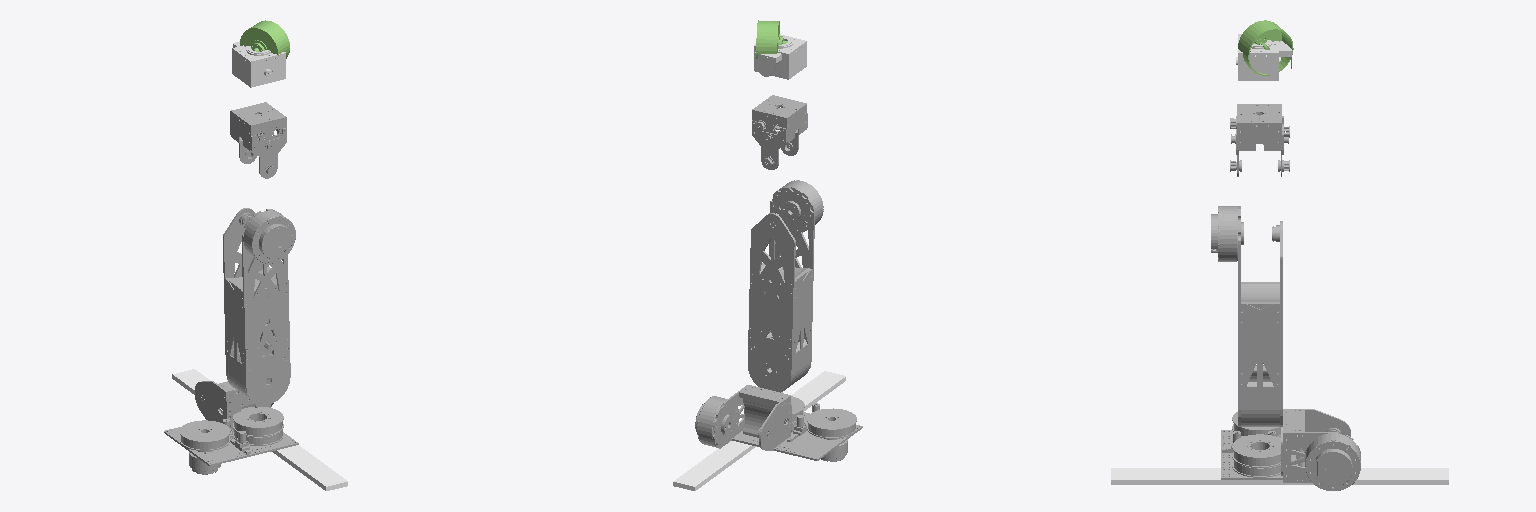
The robot description file, URDF, robot "robotic_arm":
<?xml version="1.0" encoding="utf-8"?>
<!-- This URDF was automatically created by SolidWorks to URDF Exporter! Originally created by [author] ([email redacted]) 
     Commit Version: 1.6.0-4-g7f85cfe  Build Version: 1.6.7995.38578
     For more information, please see http://wiki.ros.org/sw_urdf_exporter -->
<robot
  name="robotic_arm">
  <link
    name="base_link">
    <inertial>
      <origin
        xyz="-3.68628738645072E-18 -6.91439545231811E-17 0.005"
        rpy="0 0 0" />
      <mass
        value="0.3" />
      <inertia
        ixx="0.0090025"
        ixy="-4.02961807440446E-20"
        ixz="1.44560289664731E-22"
        iyy="6.5E-05"
        iyz="-5.50919783425842E-19"
        izz="0.0090625" />
    </inertial>
    <visual>
      <origin
        xyz="0 0 0"
        rpy="0 0 0" />
      <geometry>
        <mesh
          filename="package://robotic_arm/meshes/base_link.STL" />
      </geometry>
      <material
        name="">
        <color
          rgba="1 1 1 1" />
      </material>
    </visual>
    <collision>
      <origin
        xyz="0 0 0"
        rpy="0 0 0" />
      <geometry>
        <mesh
          filename="package://robotic_arm/meshes/base_link.STL" />
      </geometry>
    </collision>
  </link>
  <link
    name="second_base_link">
    <inertial>
      <origin
        xyz="-0.044022887337792 -0.0176622667442875 0.0600389088080566"
        rpy="0 0 0" />
      <mass
        value="13.7706626732672" />
      <inertia
        ixx="0.00135146700857453"
        ixy="-2.1220317114705E-08"
        ixz="-1.9401607970181E-06"
        iyy="0.00279077700857323"
        iyz="-3.72530136797395E-08"
        izz="0.0019757045745801" />
    </inertial>
    <visual>
      <origin
        xyz="0 0 0"
        rpy="0 0 0" />
      <geometry>
        <mesh
          filename="package://robotic_arm/meshes/second_base_link.STL" />
      </geometry>
      <material
        name="">
        <color
          rgba="0.752941176470588 0.752941176470588 0.752941176470588 1" />
      </material>
    </visual>
    <collision>
      <origin
        xyz="0 0 0"
        rpy="0 0 0" />
      <geometry>
        <mesh
          filename="package://robotic_arm/meshes/second_base_link.STL" />
      </geometry>
    </collision>
  </link>
  <joint
    name="shift_joint"
    type="prismatic">
    <origin
      xyz="-0.025 0 0.016"
      rpy="-1.5708 0 1.5708" />
    <parent
      link="base_link" />
    <child
      link="second_base_link" />
    <axis
      xyz="1 0 0" />
    <limit
      lower="-0.2"
      upper="0.2"
      effort="0"
      velocity="0" />
  </joint>
  <link
    name="yaw_link_1">
    <inertial>
      <origin
        xyz="4.6696404818955E-07 0.0328590155370009 -0.000362520537038807"
        rpy="0 0 0" />
      <mass
        value="82.2937780685442" />
      <inertia
        ixx="0.0434637013801844"
        ixy="-4.93825912479594E-07"
        ixz="1.77132288546177E-07"
        iyy="0.128350688051016"
        iyz="-8.63078124606148E-08"
        izz="0.0940864524556386" />
    </inertial>
    <visual>
      <origin
        xyz="0 0 0"
        rpy="0 0 0" />
      <geometry>
        <mesh
          filename="package://robotic_arm/meshes/yaw_link_1.STL" />
      </geometry>
      <material
        name="">
        <color
          rgba="0.752941176470588 0.752941176470588 0.752941176470588 1" />
      </material>
    </visual>
    <collision>
      <origin
        xyz="0 0 0"
        rpy="0 0 0" />
      <geometry>
        <mesh
          filename="package://robotic_arm/meshes/yaw_link_1.STL" />
      </geometry>
    </collision>
  </link>
  <joint
    name="yaw_joint_1"
    type="revolute">
    <origin
      xyz="-0.035237 -0.037 0"
      rpy="0 -1.5708 -3.1416" />
    <parent
      link="second_base_link" />
    <child
      link="yaw_link_1" />
    <axis
      xyz="0 1 0" />
    <limit
      lower="-0.785"
      upper="0.785"
      effort="0"
      velocity="0" />
  </joint>
  <link
    name="pitch_link_1">
    <inertial>
      <origin
        xyz="6.76805756233204E-05 -0.00204269919053574 0.0795926868026391"
        rpy="0 0 0" />
      <mass
        value="295.934350579955" />
      <inertia
        ixx="0.521077297298085"
        ixy="3.11296490831532E-07"
        ixz="-1.13263447296068E-06"
        iyy="0.288326509824729"
        iyz="-0.00452538527112823"
        izz="0.468276403116782" />
    </inertial>
    <visual>
      <origin
        xyz="0 0 0"
        rpy="0 0 0" />
      <geometry>
        <mesh
          filename="package://robotic_arm/meshes/pitch_link_1.STL" />
      </geometry>
      <material
        name="">
        <color
          rgba="0.752941176470588 0.752941176470588 0.752941176470588 1" />
      </material>
    </visual>
    <collision>
      <origin
        xyz="0 0 0"
        rpy="0 0 0" />
      <geometry>
        <mesh
          filename="package://robotic_arm/meshes/pitch_link_1.STL" />
      </geometry>
    </collision>
  </link>
  <joint
    name="pitch_joint_1"
    type="revolute">
    <origin
      xyz="0 0.093 0"
      rpy="3.1416 -1.5708 1.5456" />
    <parent
      link="yaw_link_1" />
    <child
      link="pitch_link_1" />
    <axis
      xyz="1 0 0" />
    <limit
      lower="-1.395"
      upper="1.395"
      effort="0"
      velocity="0" />
  </joint>
  <link
    name="pitch_link_2">
    <inertial>
      <origin
        xyz="-7.86363827882941E-06 -0.0118492706816219 0.0628431163153897"
        rpy="0 0 0" />
      <mass
        value="17.9447761996099" />
      <inertia
        ixx="0.00409983538513512"
        ixy="-2.78422234495853E-08"
        ixz="2.11237619566301E-08"
        iyy="0.00308460062102436"
        iyz="2.03568842417699E-07"
        izz="0.00392292897806876" />
    </inertial>
    <visual>
      <origin
        xyz="0 0 0"
        rpy="0 0 0" />
      <geometry>
        <mesh
          filename="package://robotic_arm/meshes/pitch_link_2.STL" />
      </geometry>
      <material
        name="">
        <color
          rgba="0.752941176470588 0.752941176470588 0.752941176470588 1" />
      </material>
    </visual>
    <collision>
      <origin
        xyz="0 0 0"
        rpy="0 0 0" />
      <geometry>
        <mesh
          filename="package://robotic_arm/meshes/pitch_link_2.STL" />
      </geometry>
    </collision>
  </link>
  <joint
    name="pitch_joint_2"
    type="revolute">
    <origin
      xyz="-0.0005 -0.0070647 0.27991"
      rpy="-1.5456 0 0" />
    <parent
      link="pitch_link_1" />
    <child
      link="pitch_link_2" />
    <axis
      xyz="-1 0 0" />
    <limit
      lower="-2.355"
      upper="2.355"
      effort="0"
      velocity="0" />
  </joint>
  <link
    name="roll_link_1">
    <inertial>
      <origin
        xyz="0.000459875490631909 -0.0438657402293754 3.37810933538248E-05"
        rpy="0 0 0" />
      <mass
        value="76.7289981060704" />
      <inertia
        ixx="0.0312961335815327"
        ixy="-8.61916025443439E-11"
        ixz="4.38036375110989E-06"
        iyy="0.0379769952753597"
        iyz="-2.35626179558078E-05"
        izz="0.0387928626574603" />
    </inertial>
    <visual>
      <origin
        xyz="0 0 0"
        rpy="0 0 0" />
      <geometry>
        <mesh
          filename="package://robotic_arm/meshes/roll_link_1.STL" />
      </geometry>
      <material
        name="">
        <color
          rgba="0.752941176470588 0.752941176470588 0.752941176470588 1" />
      </material>
    </visual>
    <collision>
      <origin
        xyz="0 0 0"
        rpy="0 0 0" />
      <geometry>
        <mesh
          filename="package://robotic_arm/meshes/roll_link_1.STL" />
      </geometry>
    </collision>
  </link>
  <joint
    name="roll_joint_1"
    type="revolute">
    <origin
      xyz="0 -0.28 0"
      rpy="0 0 0" />
    <parent
      link="pitch_link_2" />
    <child
      link="roll_link_1" />
    <axis
      xyz="0 1 0" />
    <limit
      lower="-3.14"
      upper="3.14"
      effort="0"
      velocity="0" />
  </joint>
  <link
    name="pitch_link_3">
    <inertial>
      <origin
        xyz="0.0207723253549985 -0.0063944856945195 -1.79399889484524E-06"
        rpy="0 0 0" />
      <mass
        value="71.4697928533591" />
      <inertia
        ixx="0.0255220344389946"
        ixy="0.000765184353880393"
        ixz="-2.914276520917E-06"
        iyy="0.0293476093259731"
        iyz="2.46482766481145E-06"
        izz="0.0330881905441518" />
    </inertial>
    <visual>
      <origin
        xyz="0 0 0"
        rpy="0 0 0" />
      <geometry>
        <mesh
          filename="package://robotic_arm/meshes/pitch_link_3.STL" />
      </geometry>
      <material
        name="">
        <color
          rgba="0.929411764705882 0.929411764705882 0.929411764705882 1" />
      </material>
    </visual>
    <collision>
      <origin
        xyz="0 0 0"
        rpy="0 0 0" />
      <geometry>
        <mesh
          filename="package://robotic_arm/meshes/pitch_link_3.STL" />
      </geometry>
    </collision>
  </link>
  <joint
    name="pitch_joint_3"
    type="revolute">
    <origin
      xyz="0.0363 -0.103 0"
      rpy="-3.1366 0 3.1416" />
    <parent
      link="roll_link_1" />
    <child
      link="pitch_link_3" />
    <axis
      xyz="1 0 0" />
    <limit
      lower="-1.57"
      upper="1.57"
      effort="0"
      velocity="0" />
  </joint>
  <link
    name="roll_link_2">
    <inertial>
      <origin
        xyz="3.30422302782796E-08 -0.0242589518113975 5.7230821599169E-08"
        rpy="0 0 0" />
      <mass
        value="41.6646751096041" />
      <inertia
        ixx="0.0324237377311637"
        ixy="-8.82828137240354E-18"
        ixz="-3.46944695195361E-18"
        iyy="0.037832723323421"
        iyz="-8.46926854587924E-18"
        izz="0.0324237377311638" />
    </inertial>
    <visual>
      <origin
        xyz="0 0 0"
        rpy="0 0 0" />
      <geometry>
        <mesh
          filename="package://robotic_arm/meshes/roll_link_2.STL" />
      </geometry>
      <material
        name="">
        <color
          rgba="0.647058823529412 0.854901960784314 0.533333333333333 1" />
      </material>
    </visual>
    <collision>
      <origin
        xyz="0 0 0"
        rpy="0 0 0" />
      <geometry>
        <mesh
          filename="package://robotic_arm/meshes/roll_link_2.STL" />
      </geometry>
    </collision>
  </link>
  <joint
    name="roll_joint_2"
    type="revolute">
    <origin
      xyz="0.036315 -0.0345 0.00017249"
      rpy="-3.1304 -1.1081 3.1316" />
    <parent
      link="pitch_link_3" />
    <child
      link="roll_link_2" />
    <axis
      xyz="0 1 0" />
    <limit
      lower="-3.14"
      upper="3.14"
      effort="0"
      velocity="0" />
  </joint>
</robot>

--- What the picture shows (computed from the rendered views, not written in the file) ---
3 views of the same robot in one strip: view 1: azimuth 30°, elevation 25°; view 2: azimuth 150°, elevation 25°; view 3: azimuth 270°, elevation 25° (orthographic).
Model robotic_arm with 8 links and 7 joints (6 revolute, 1 prismatic), rooted at base_link, posed every joint at zero.
Links seen in each view (by area): view 1: pitch_link_1, second_base_link, roll_link_1, base_link, pitch_link_3, yaw_link_1, roll_link_2; view 2: pitch_link_1, yaw_link_1, second_base_link, roll_link_1, base_link, pitch_link_3, roll_link_2; view 3: pitch_link_1, yaw_link_1, base_link, second_base_link, roll_link_1, pitch_link_3, roll_link_2.
Link boxes in pixels (x1,y1,x2,y2): pitch_link_1: [223, 208, 295, 404]; second_base_link: [164, 407, 298, 474]; roll_link_1: [230, 102, 286, 178]; base_link: [172, 369, 347, 490]; pitch_link_3: [232, 41, 285, 87]; yaw_link_1: [195, 381, 273, 431]; roll_link_2: [240, 20, 289, 58]; pitch_link_1: [748, 180, 823, 392]; yaw_link_1: [695, 385, 791, 450]; second_base_link: [732, 396, 862, 461]; roll_link_1: [752, 95, 807, 169]; base_link: [673, 371, 845, 490]; pitch_link_3: [754, 34, 806, 79]; roll_link_2: [756, 20, 787, 63]; pitch_link_1: [1211, 206, 1282, 426]; yaw_link_1: [1281, 409, 1360, 490]; base_link: [1111, 468, 1448, 484]; second_base_link: [1221, 412, 1305, 479]; roll_link_1: [1230, 104, 1289, 176]; pitch_link_3: [1236, 34, 1291, 80]; roll_link_2: [1238, 20, 1293, 75].
Size in the robot's own frame: 0.2677 by 0.6 by 0.9189 metres.
7 mesh visuals loaded from 8 distinct referenced files (7 binary STL); not drawn: 1 (reference not matched to a file when rendering).